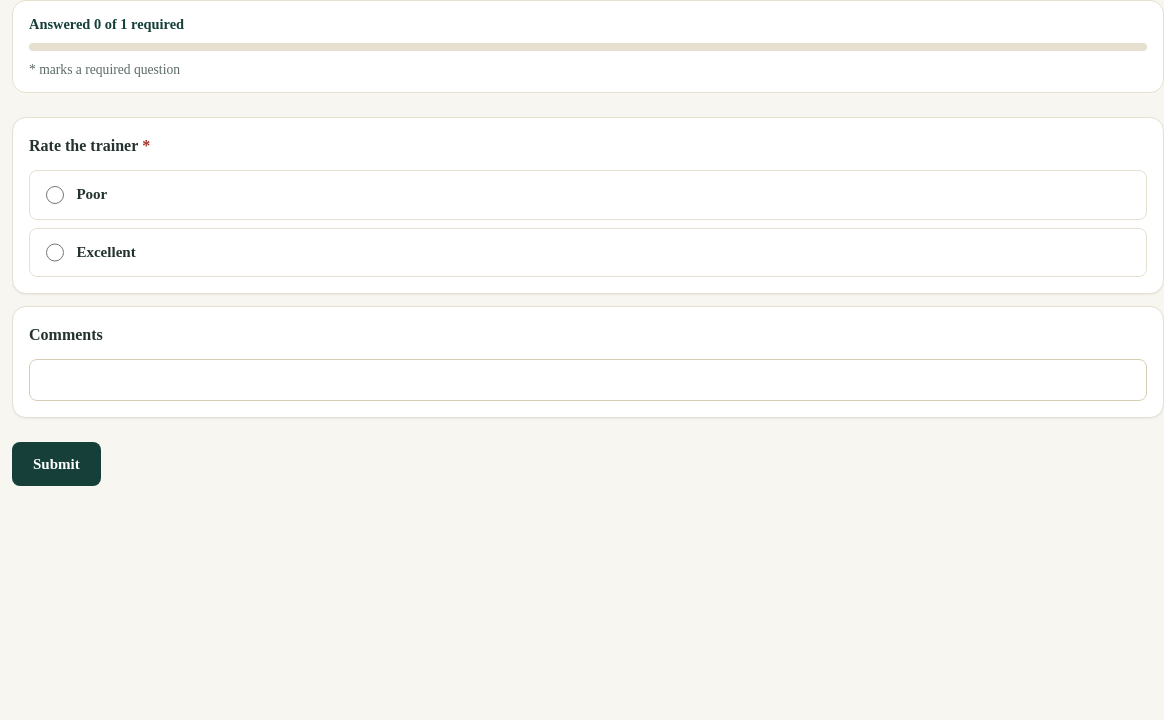
Test: SurveyForm › blocks submit and shows an accessible error summary when a required question is unanswered
Click the button "Submit" at (56, 464), box [12, 442, 101, 486]
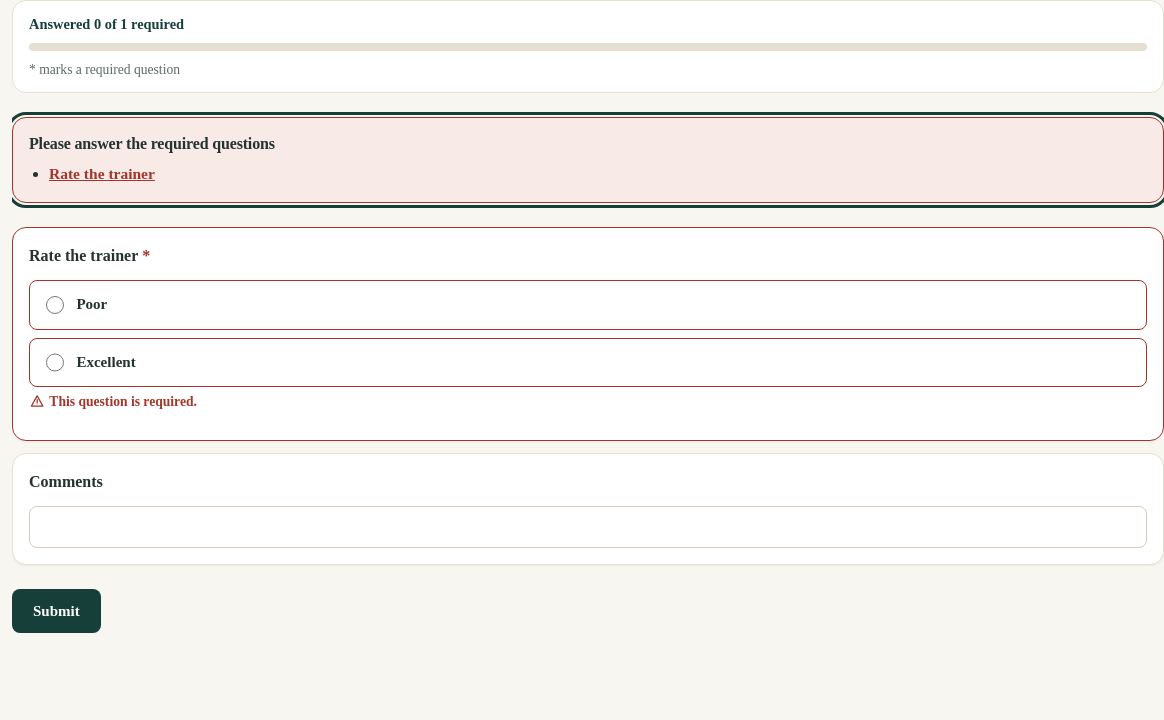
Expected: the link "Rate the trainer" is shown, [49, 165, 155, 182]
